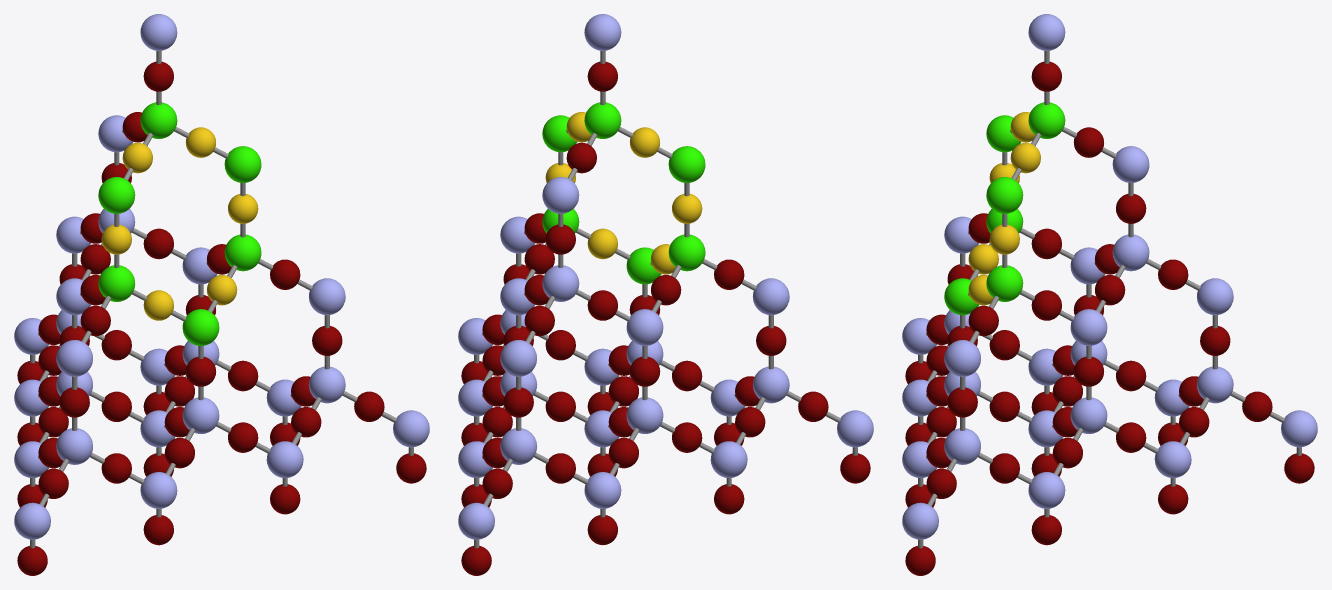
File: eryanghuagui1.FBX
3 views of the same model, side by side, from view 1: azimuth 30°, elevation 25°; view 2: azimuth 150°, elevation 25°; view 3: azimuth 270°, elevation 25° (orthographic).
Parts seen in each view (by area): view 1: Sphere111, Sphere043, Sphere049, Sphere035, Sphere059, Sphere092, Sphere044, Sphere108, Sphere095, Sphere051, Sphere048, Sphere056 (+55 smaller); view 2: Sphere102, Sphere046, Sphere077, Sphere035, Sphere049, Sphere111, Sphere043, Sphere053, Sphere125, Sphere110, Sphere048, Sphere072 (+55 smaller); view 3: Sphere092, Sphere044, Sphere059, Sphere035, Sphere077, Sphere102, Sphere075, Sphere046, Sphere115, Sphere117, Sphere056, Sphere097 (+55 smaller).
Part boxes in pixels (<box>): Sphere111: <box>14,502,50,539</box>; Sphere043: <box>98,177,135,213</box>; Sphere049: <box>56,340,92,376</box>; Sphere035: <box>140,14,177,50</box>; Sphere059: <box>309,278,345,315</box>; Sphere092: <box>393,410,429,447</box>; Sphere044: <box>224,146,261,182</box>; Sphere108: <box>140,472,177,508</box>; Sphere095: <box>266,441,303,477</box>; Sphere051: <box>182,309,219,345</box>; Sphere048: <box>98,265,135,301</box>; Sphere056: <box>224,234,261,271</box>; Sphere102: <box>458,502,494,539</box>; Sphere046: <box>542,177,579,213</box>; Sphere077: <box>500,340,536,376</box>; Sphere035: <box>584,14,621,50</box>; Sphere049: <box>752,278,789,315</box>; Sphere111: <box>837,410,873,447</box>; Sphere043: <box>668,146,705,182</box>; Sphere053: <box>626,309,663,345</box>; Sphere125: <box>584,472,621,508</box>; Sphere110: <box>710,441,747,477</box>; Sphere048: <box>668,234,705,271</box>; Sphere072: <box>542,265,579,301</box>; Sphere092: <box>902,502,938,539</box>; Sphere044: <box>986,177,1023,213</box>; Sphere059: <box>944,340,980,376</box>; Sphere035: <box>1028,14,1065,50</box>; Sphere077: <box>1197,278,1233,315</box>; Sphere102: <box>1281,410,1317,447</box>; Sphere075: <box>1070,309,1107,345</box>; Sphere046: <box>1112,146,1149,182</box>; Sphere115: <box>1028,472,1065,508</box>; Sphere117: <box>1154,441,1191,477</box>; Sphere056: <box>986,265,1023,301</box>; Sphere097: <box>1196,366,1233,403</box>.
Size of the model in its own units: 39.11 by 42.43 by 34.28.
